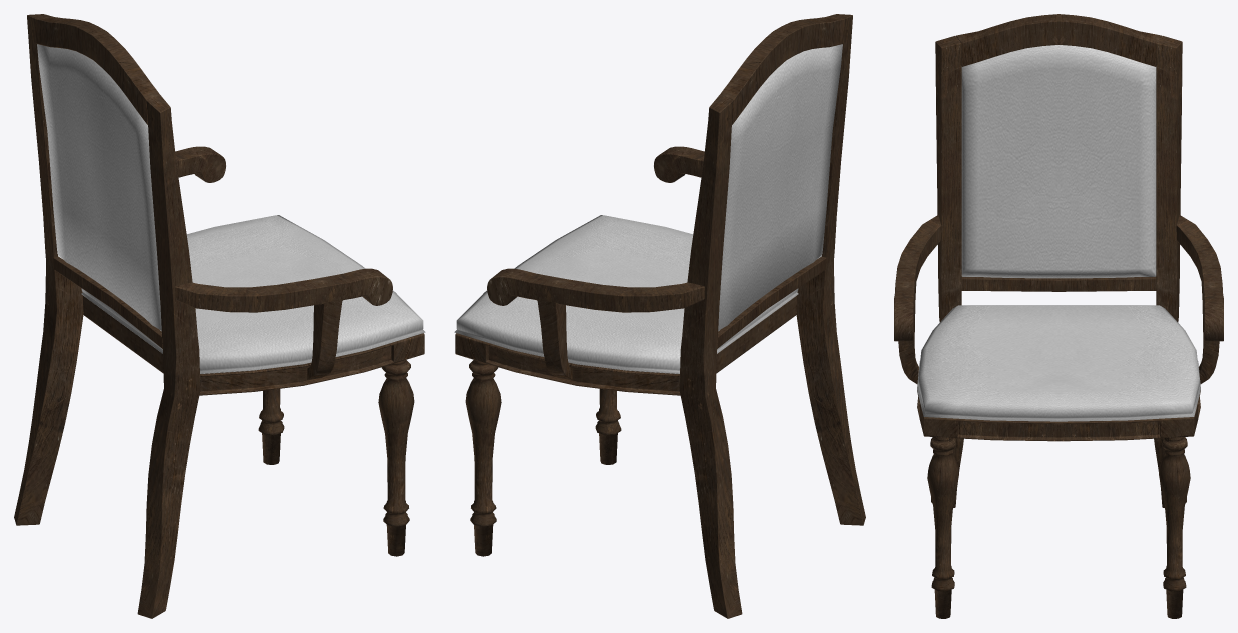
The model's file is cc0_chair.glb.
3 views of the same model, side by side, from view 1: azimuth 30°, elevation 25°; view 2: azimuth 150°, elevation 25°; view 3: azimuth 270°, elevation 25° (orthographic). The views are drawn at different scales.
Visible parts, largest first — view 1: VisitorChairs_0; view 2: VisitorChairs_0; view 3: VisitorChairs_0.
Part boxes in pixels (<box>): VisitorChairs_0: <box>14,14,425,618</box>; VisitorChairs_0: <box>454,14,865,618</box>; VisitorChairs_0: <box>894,14,1223,618</box>.
Bounding box in the file's own units: 0.5861 × 1.04 × 0.6306.
Materials: 2 (2 with a texture image).
